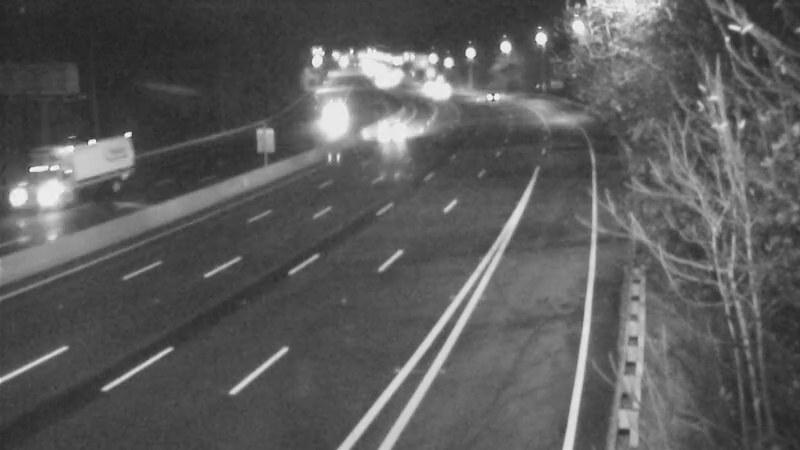vehicle: (7, 145, 87, 225), (398, 60, 448, 110), (465, 68, 515, 118), (366, 106, 416, 156), (303, 97, 353, 147)
